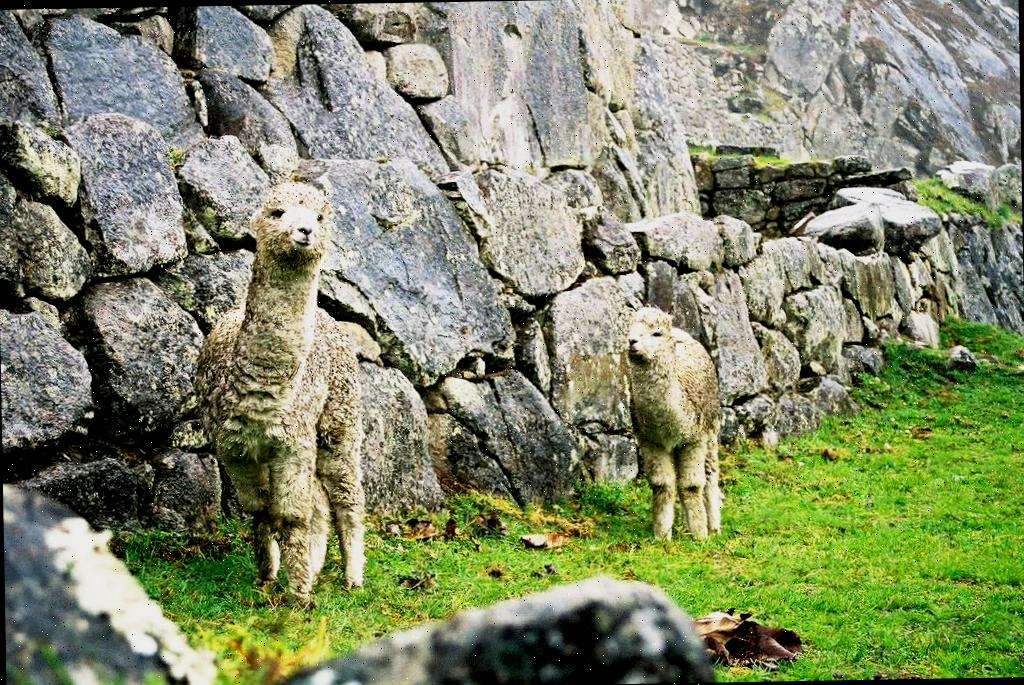Sheep: (187, 174, 367, 614), (606, 305, 728, 562)
